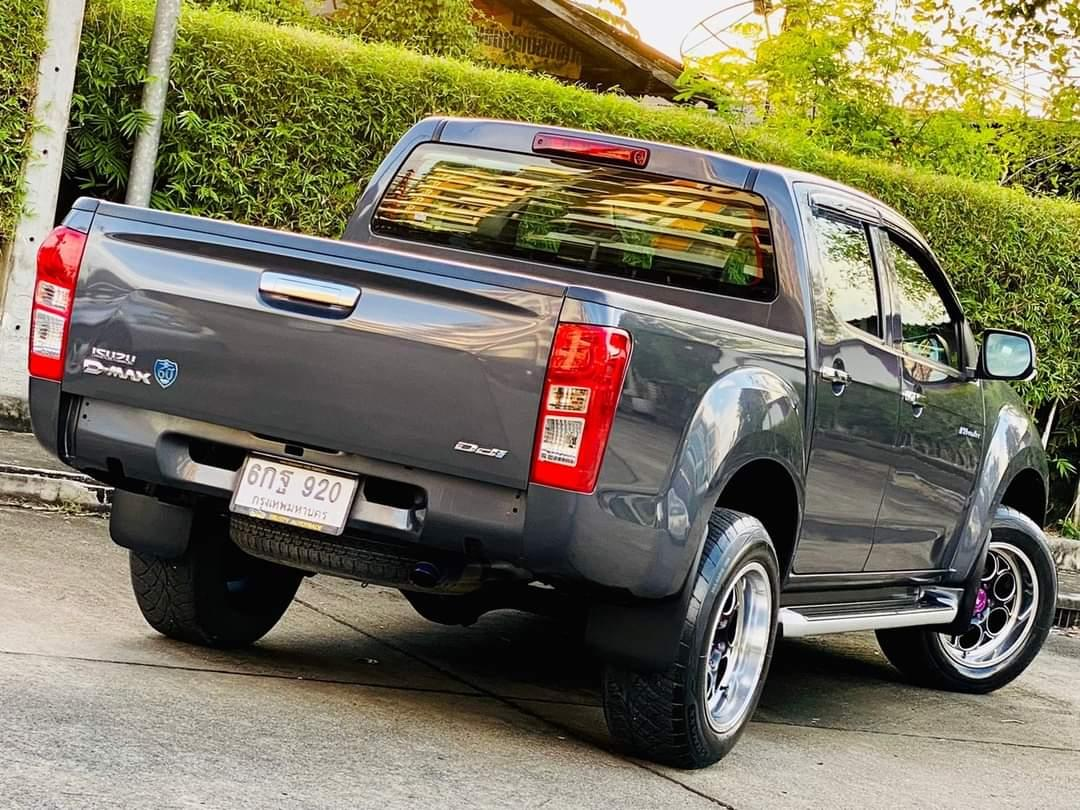license-plate: (230, 442, 362, 542)
